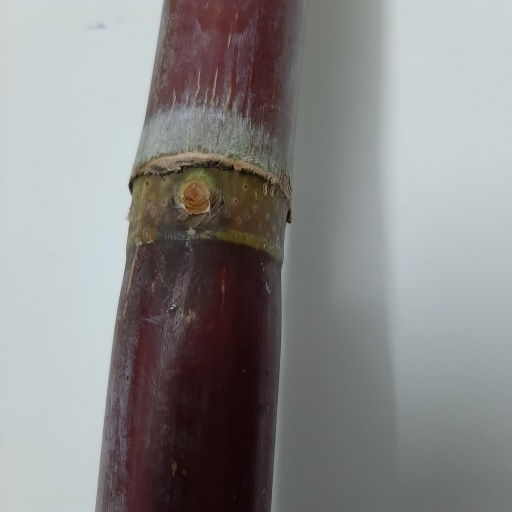Damage_Bud: (178, 181, 209, 213)
